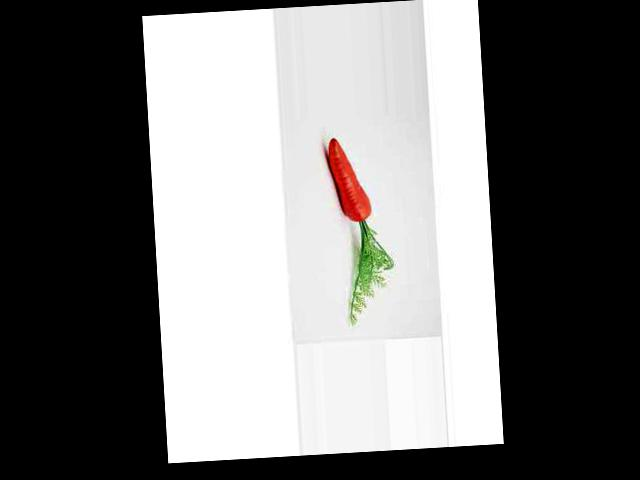carrot: (316, 128, 370, 225)
